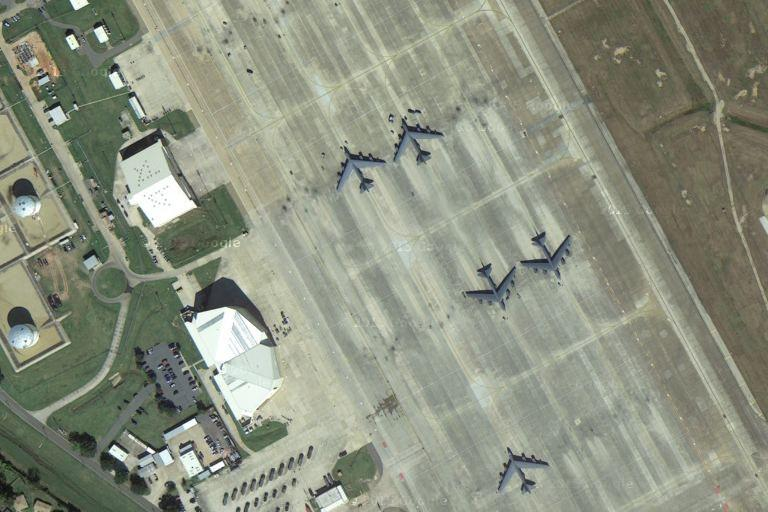B-52: (492, 442, 551, 497), (332, 143, 391, 197), (389, 114, 445, 170), (462, 259, 520, 312), (524, 230, 578, 282)
